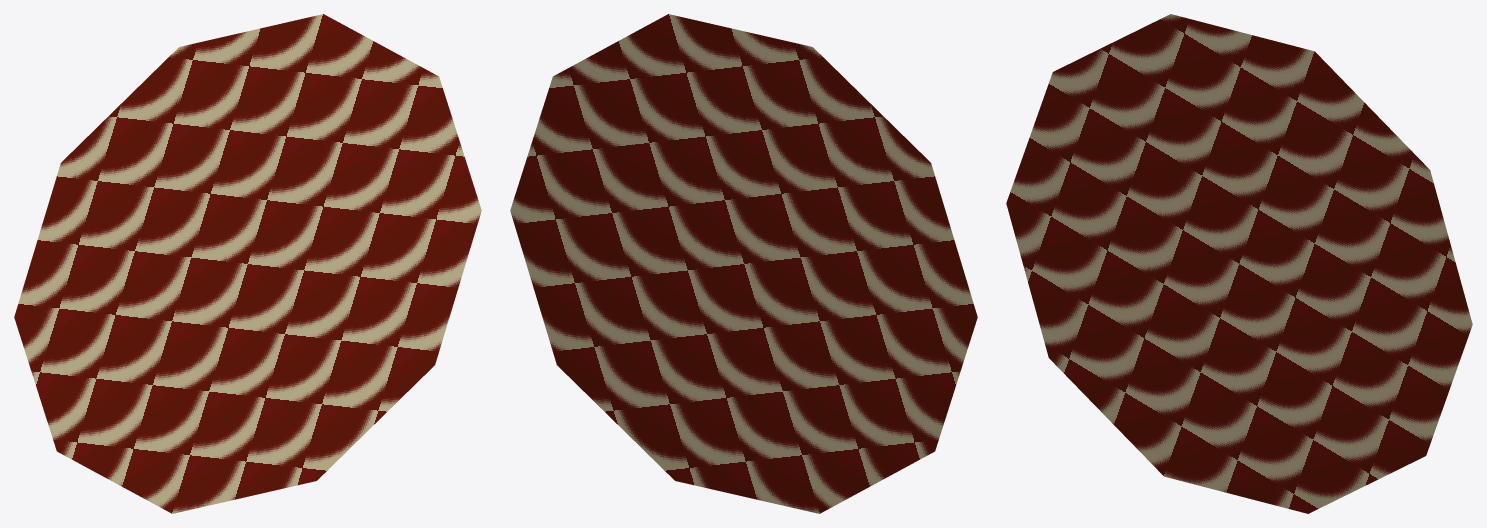
3 views of the same model, side by side, from view 1: azimuth 30°, elevation 25°; view 2: azimuth 150°, elevation 25°; view 3: azimuth 330°, elevation 25° (orthographic).
Parts seen in each view (by area): view 1: ef_622; view 2: ef_622; view 3: ef_622.
Part boxes in pixels (left/top/right/bottom): ef_622: left=14, top=14, right=481, bottom=513; ef_622: left=510, top=14, right=977, bottom=513; ef_622: left=1006, top=14, right=1472, bottom=513.
Size of the model in its own units: 0.8188 by 0.7823 by 0.
Materials: 1 (1 with a texture image).
